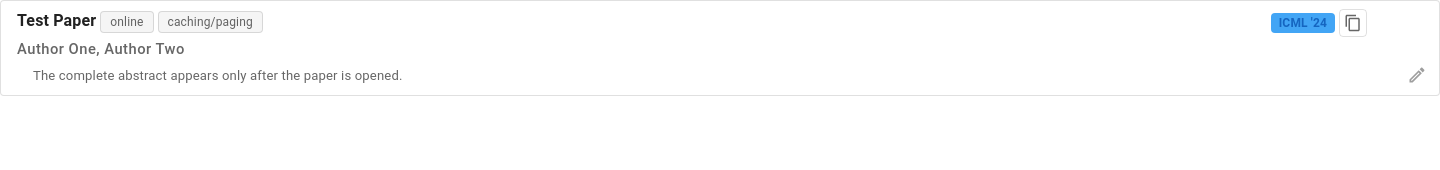
Scenario: PaperCard abstract expansion › expands and collapses the abstract by clicking the paper card
The image size is (1440, 170).
Check: the text "The complete abstract appears only after the paper is opened." is shown, box left=33, top=68, right=402, bottom=83
Check: the text "First appearance: 2024" is not shown
What coordinates should you click on to do the following:
click the heading "Test Paper"
I would click on:
 (57, 20)
Its box is left=17, top=11, right=96, bottom=30.
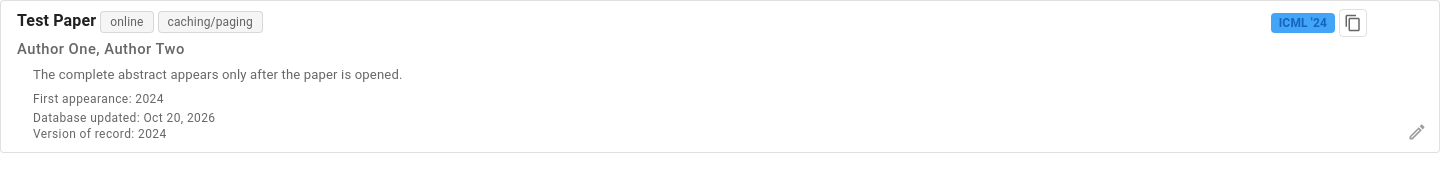
Check: the text "The complete abstract appears only after the paper is opened." is shown, box left=33, top=67, right=402, bottom=82
Check: the element named "Test Paper. Show details" is expanded
What coordinates should you click on to do the following:
click the heading "Test Paper"
I would click on:
 (57, 20)
Its box is left=17, top=11, right=96, bottom=30.
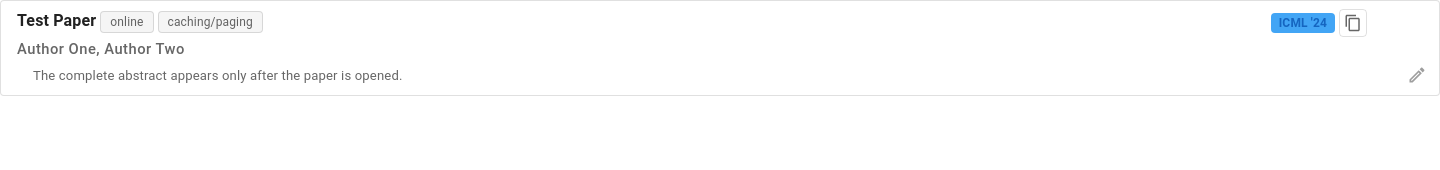
Check: the element named "Test Paper. Show details" is collapsed, box left=0, top=0, right=1439, bottom=96
